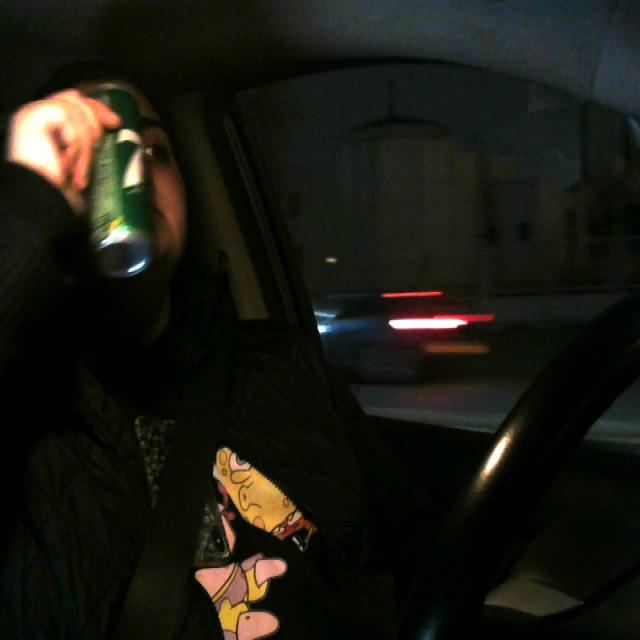drinking: (75, 80, 154, 296)
